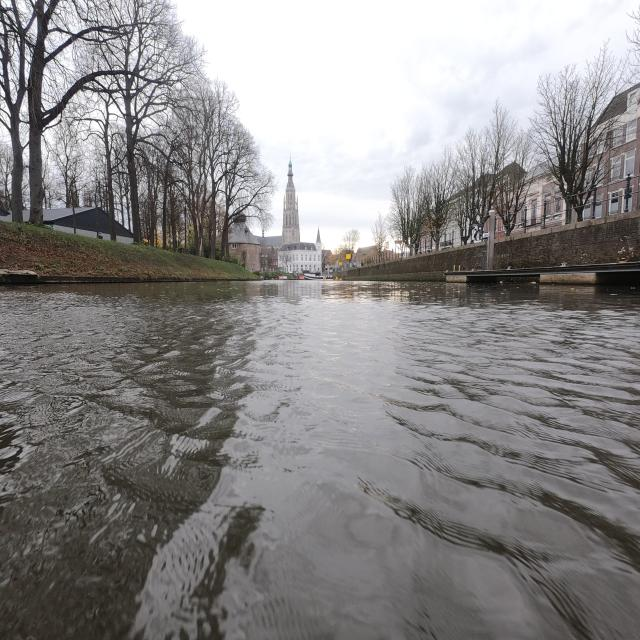dock: (444, 262, 640, 284), (0, 276, 151, 284), (0, 269, 39, 283), (150, 278, 185, 282)
grass: (0, 222, 258, 281)
sky: (173, 0, 640, 249)
wall: (495, 210, 640, 269), (339, 243, 486, 279)
water: (0, 281, 640, 640)
